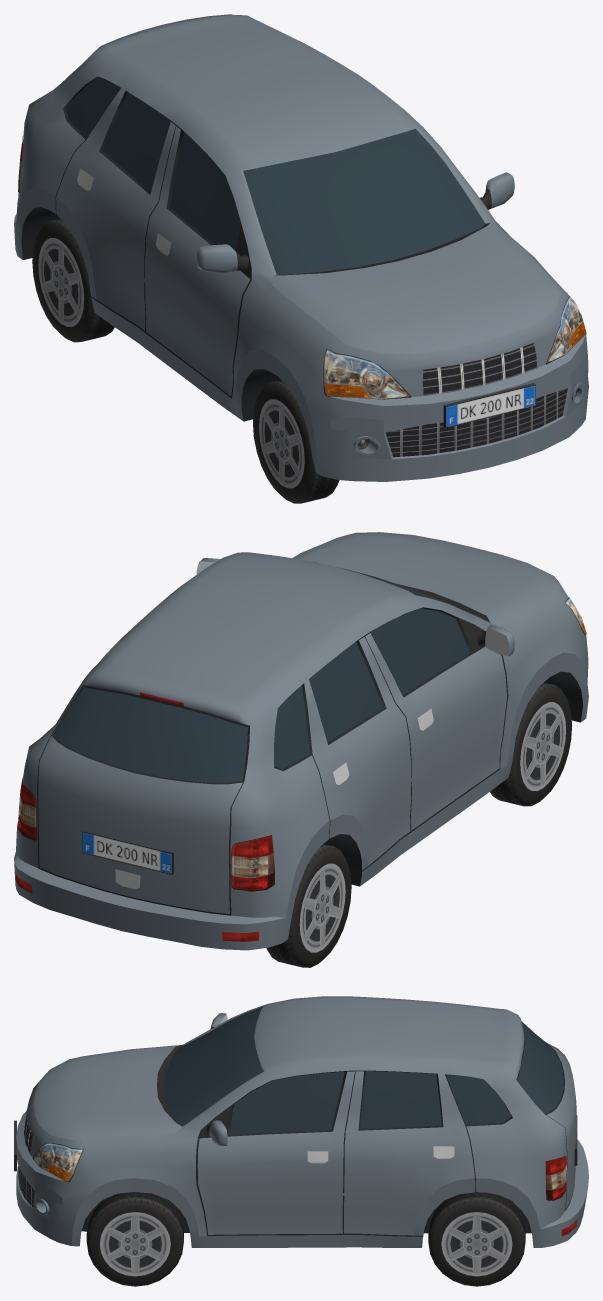
The model's file is suv.glb.
The picture shows the model from 3 angles, top to bottom: view 1: azimuth 30°, elevation 25°; view 2: azimuth 150°, elevation 25°; view 3: azimuth 270°, elevation 25°; orthographic projection. The views are drawn at different scales.
Parts seen in each view (by area): view 1: paint-Body-body, glass-FrontGlass-body, glass-Glass-body, trim-AirIntake-body, headlamp-FrontLights-body, rubber-Tires-(False, False), alloy-Rim-(False, False), alloy-Rim-(False, True), rubber-Tires-(False, True), trim-LicensePlate-body, rubber-WheelArch-body, rubber-BlackRubber-body (+1 smaller); view 2: paint-Body-body, glass-Glass-body, taillamp-RearLights-body, rubber-Tires-(False, True), alloy-Rim-(False, True), alloy-Rim-(False, False), rubber-Tires-(False, False), rubber-BlackRubber-body, trim-LicensePlate-body, rubber-WheelArch-body, rubber-Lines-body, trim-Handle-body (+1 smaller); view 3: paint-Body-body, glass-Glass-body, glass-FrontGlass-body, rubber-Tires-(True, False), rubber-Tires-(True, True), alloy-Rim-(True, True), alloy-Rim-(True, False), rubber-BlackRubber-body, headlamp-FrontLights-body, rubber-Lines-body, taillamp-RearLights-body, rubber-WheelArch-body (+3 smaller).
Boxes of the visible parts, bbox=[...] form: paint-Body-body: bbox=[14, 14, 588, 481]; glass-FrontGlass-body: bbox=[243, 128, 485, 274]; glass-Glass-body: bbox=[66, 77, 241, 250]; trim-AirIntake-body: bbox=[385, 343, 567, 457]; headlamp-FrontLights-body: bbox=[323, 292, 586, 399]; rubber-Tires-(False, False): bbox=[253, 379, 339, 503]; alloy-Rim-(False, False): bbox=[259, 399, 304, 488]; alloy-Rim-(False, True): bbox=[38, 238, 84, 326]; rubber-Tires-(False, True): bbox=[32, 218, 114, 342]; trim-LicensePlate-body: bbox=[443, 383, 535, 427]; rubber-WheelArch-body: bbox=[21, 207, 280, 421]; rubber-BlackRubber-body: bbox=[63, 76, 214, 245]; paint-Body-body: bbox=[14, 532, 588, 950]; glass-Glass-body: bbox=[54, 608, 469, 782]; taillamp-RearLights-body: bbox=[15, 692, 274, 941]; rubber-Tires-(False, True): bbox=[266, 844, 351, 967]; alloy-Rim-(False, True): bbox=[299, 863, 345, 952]; alloy-Rim-(False, False): bbox=[520, 702, 565, 790]; rubber-Tires-(False, False): bbox=[490, 682, 571, 806]; rubber-BlackRubber-body: bbox=[51, 607, 473, 784]; trim-LicensePlate-body: bbox=[82, 830, 173, 874]; rubber-WheelArch-body: bbox=[324, 671, 583, 886]; rubber-Lines-body: bbox=[37, 632, 508, 915]; trim-Handle-body: bbox=[115, 708, 433, 889]; paint-Body-body: bbox=[16, 996, 588, 1247]; glass-Glass-body: bbox=[229, 1023, 563, 1134]; glass-FrontGlass-body: bbox=[164, 1006, 263, 1125]; rubber-Tires-(True, False): bbox=[86, 1192, 183, 1286]; rubber-Tires-(True, True): bbox=[428, 1192, 525, 1286]; alloy-Rim-(True, True): bbox=[441, 1212, 512, 1276]; alloy-Rim-(True, False): bbox=[99, 1212, 170, 1276]; rubber-BlackRubber-body: bbox=[227, 1021, 564, 1136]; headlamp-FrontLights-body: bbox=[32, 1143, 83, 1181]; rubber-Lines-body: bbox=[196, 1047, 574, 1236]; taillamp-RearLights-body: bbox=[523, 1040, 577, 1235]; rubber-WheelArch-body: bbox=[81, 1198, 531, 1233].
Bounding box in the file's own units: 2.09 × 1.76 × 4.27.
Materials: 20 (7 with a texture image).
